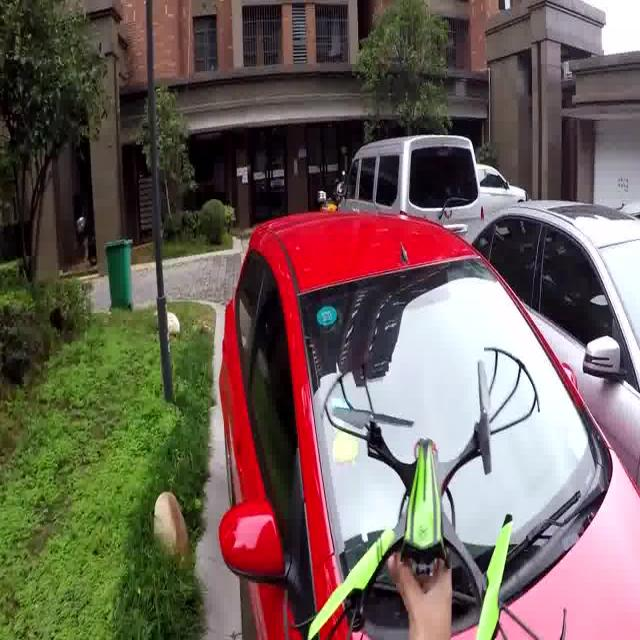drones: (278, 339, 571, 640)
